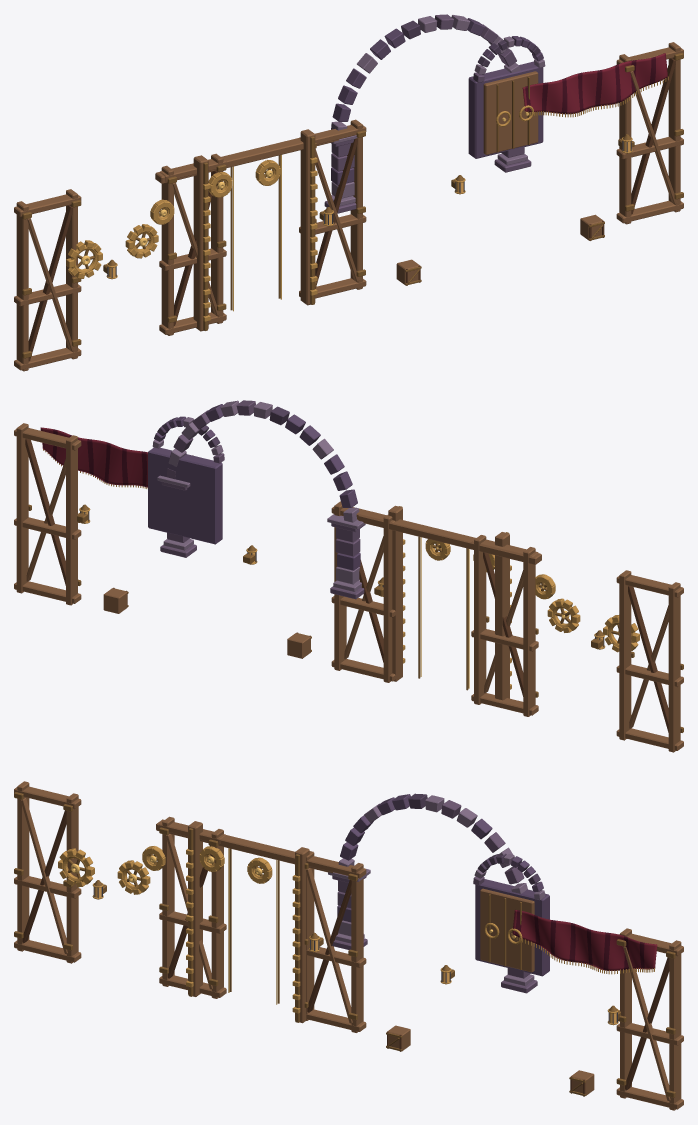
The model's file is SM_Workshop_LiftHall.fbx.
3 views of the same model, one above another, from view 1: azimuth 30°, elevation 25°; view 2: azimuth 150°, elevation 25°; view 3: azimuth 330°, elevation 25° (orthographic).
Parts seen in each view (by area): view 1: SM_Workshop_LiftHall; view 2: SM_Workshop_LiftHall; view 3: SM_Workshop_LiftHall.
Part boxes in pixels (x1=…): SM_Workshop_LiftHall: x1=14, y1=14, x2=683, y2=371; SM_Workshop_LiftHall: x1=14, y1=400, x2=683, y2=752; SM_Workshop_LiftHall: x1=14, y1=781, x2=683, y2=1110.
Bounding box in the file's own units: 2425 × 126 × 866.
